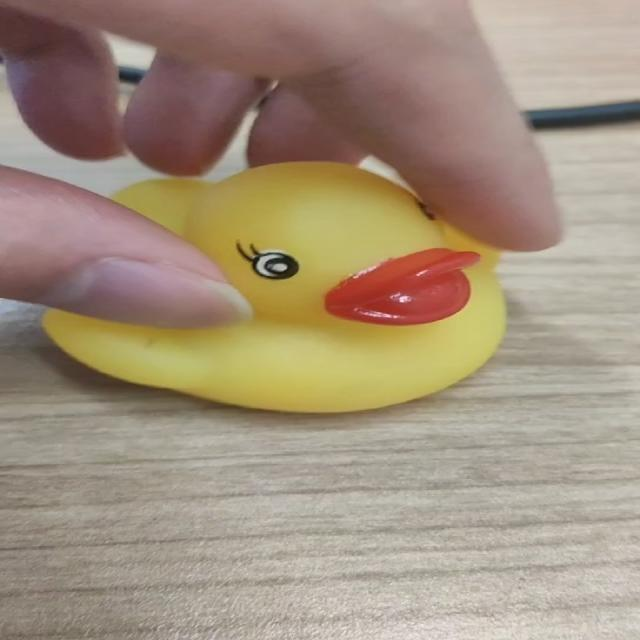rubber-duck: (42, 161, 504, 410)
